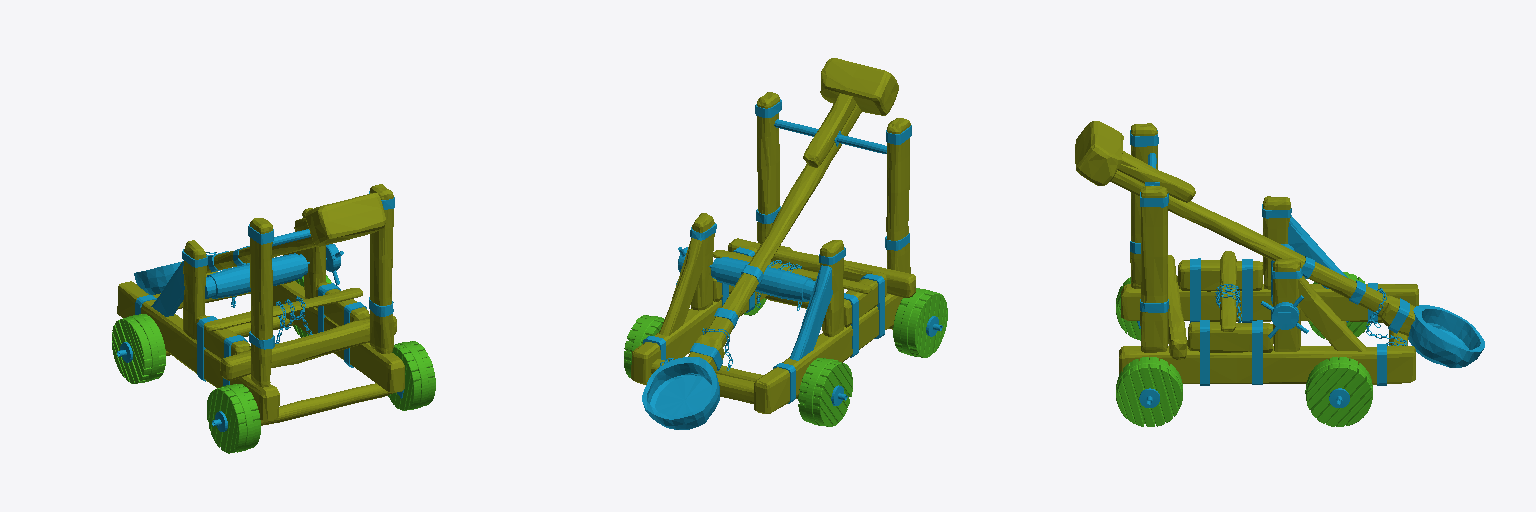
Rendered from Catapulkte.obj.
3 renders of one model, left to right at view 1: azimuth 30°, elevation 25°; view 2: azimuth 150°, elevation 25°; view 3: azimuth 270°, elevation 25°, orthographic.
Parts seen in each view (by area): view 1: PoutreM_LP, PoutreD_LP, Poutre1_LP, Poid_LP, RoueAD_LP, RoueDD_LP, RoueDD1_LP, CordeC_LP, AttachePD_LP, autre4_LP, AttachePD1_LP, autre1_LP (+4 smaller); view 2: PoutreM_LP, PoutreD_LP, Poutre1_LP, Lanceur_LP, Poid_LP, RoueAD_LP, RoueDD_LP, CordeC_LP, AttachePD_LP, P1_LP, P_LP, Poid2_LP (+6 smaller); view 3: Poutre1_LP, PoutreM_LP, PoutreD_LP, RoueAD1_LP, RoueDD1_LP, Lanceur_LP, AttachePD1_LP, Poid_LP, AttachePD_LP, P1_LP, autre_LP, autre1_LP (+8 smaller).
Boxes of the visible parts, x1=… form: PoutreM_LP: x1=153, y1=237, x2=396, y2=425; PoutreD_LP: x1=117, y1=218, x2=279, y2=421; Poutre1_LP: x1=273, y1=184, x2=404, y2=392; Poid_LP: x1=305, y1=193, x2=385, y2=246; RoueAD_LP: x1=112, y1=314, x2=165, y2=383; RoueDD_LP: x1=207, y1=384, x2=260, y2=453; RoueDD1_LP: x1=388, y1=341, x2=435, y2=410; CordeC_LP: x1=205, y1=253, x2=307, y2=298; AttachePD_LP: x1=135, y1=224, x2=274, y2=385; autre4_LP: x1=183, y1=240, x2=206, y2=339; AttachePD1_LP: x1=318, y1=191, x2=394, y2=367; autre1_LP: x1=302, y1=208, x2=325, y2=298; PoutreM_LP: x1=651, y1=104, x2=915, y2=403; PoutreD_LP: x1=754, y1=118, x2=910, y2=413; Poutre1_LP: x1=631, y1=92, x2=792, y2=384; Lanceur_LP: x1=642, y1=357, x2=719, y2=429; Poid_LP: x1=820, y1=58, x2=898, y2=115; RoueAD_LP: x1=798, y1=358, x2=852, y2=426; RoueDD_LP: x1=893, y1=288, x2=947, y2=357; CordeC_LP: x1=711, y1=257, x2=815, y2=301; AttachePD_LP: x1=773, y1=125, x2=911, y2=403; P1_LP: x1=659, y1=238, x2=702, y2=335; P_LP: x1=790, y1=265, x2=832, y2=360; Poid2_LP: x1=803, y1=93, x2=856, y2=167; Poutre1_LP: x1=1119, y1=186, x2=1415, y2=384; PoutreM_LP: x1=1110, y1=170, x2=1407, y2=359; PoutreD_LP: x1=1121, y1=123, x2=1418, y2=322; RoueAD1_LP: x1=1305, y1=357, x2=1372, y2=426; RoueDD1_LP: x1=1116, y1=357, x2=1182, y2=426; Lanceur_LP: x1=1408, y1=305, x2=1484, y2=367; AttachePD1_LP: x1=1140, y1=192, x2=1386, y2=385; Poid_LP: x1=1075, y1=121, x2=1123, y2=185; AttachePD_LP: x1=1130, y1=130, x2=1377, y2=322; P1_LP: x1=1298, y1=276, x2=1366, y2=351; autre_LP: x1=1187, y1=322, x2=1272, y2=352; autre1_LP: x1=1273, y1=258, x2=1300, y2=351.
Bounding box in the file's own units: 208 × 229 × 343.